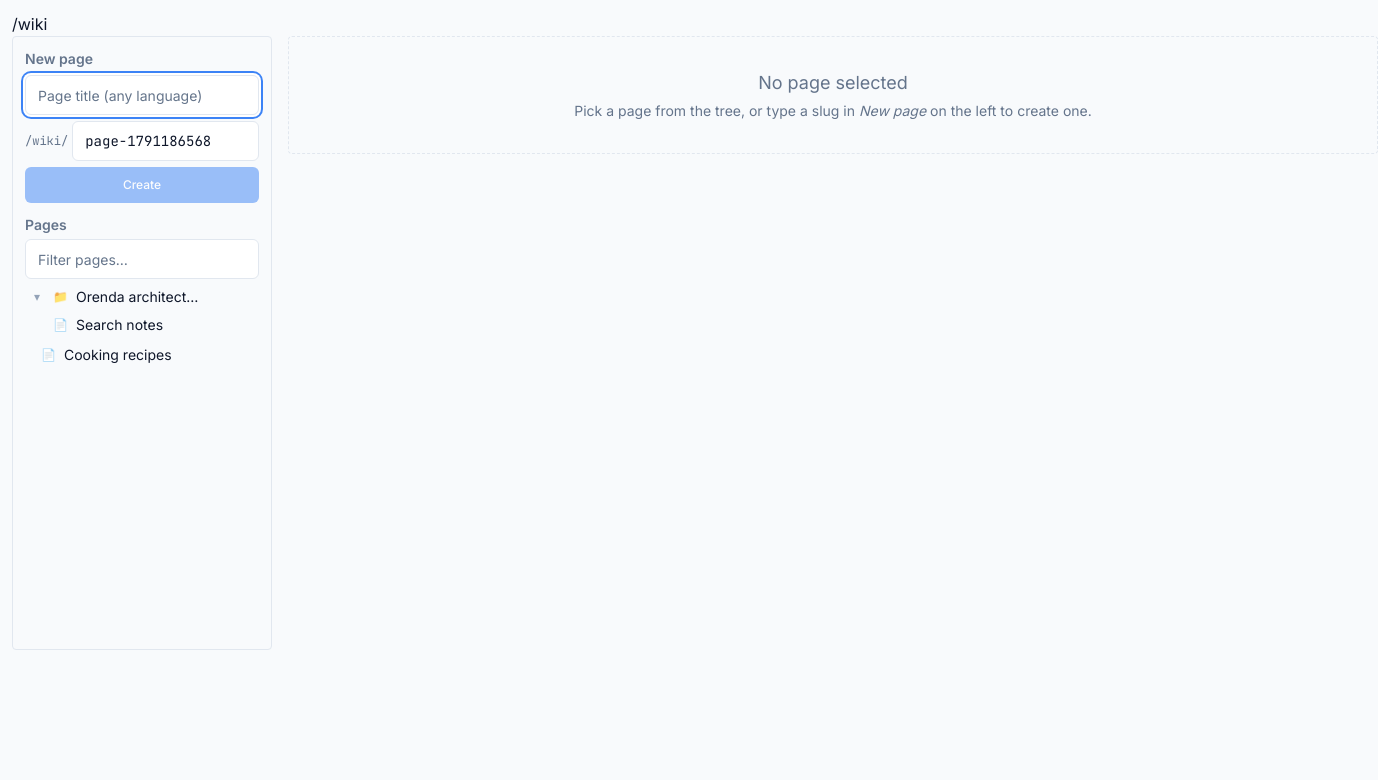
Test: WikiSidebar search › hides the Content matches section when the query is cleared
Expected: the link "Orenda architecture" is shown, [72,283,205,311]
Type "hit" into the field named "Search wiki" at [142, 259], box [25,239,259,279]
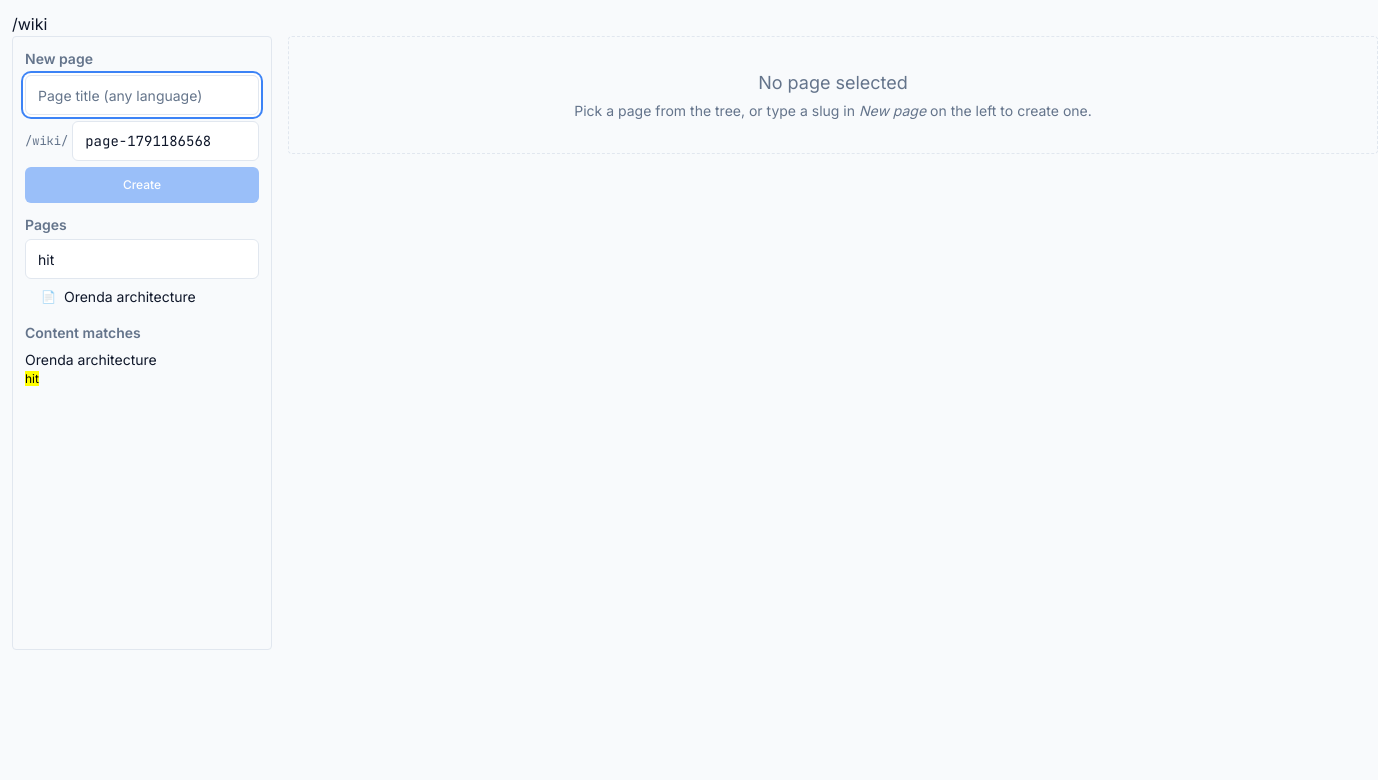
Expected: the heading "Content matches" is shown, [25,324,141,341]
Clear the field named "Search wiki" at [142, 259], box [25,239,259,279]
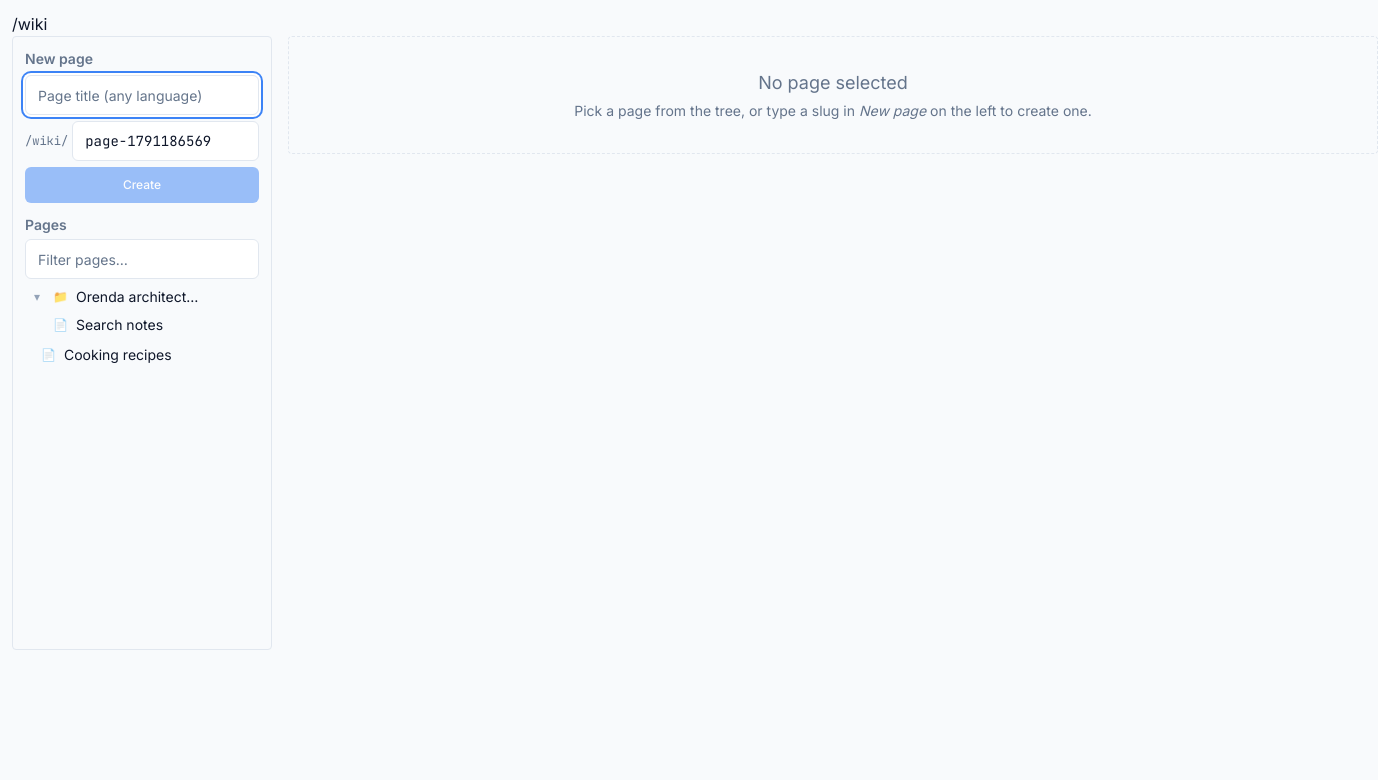
Expected: the heading "Content matches" is gone
Expected: the link "Cooking recipes" is shown, [64,346,172,363]
